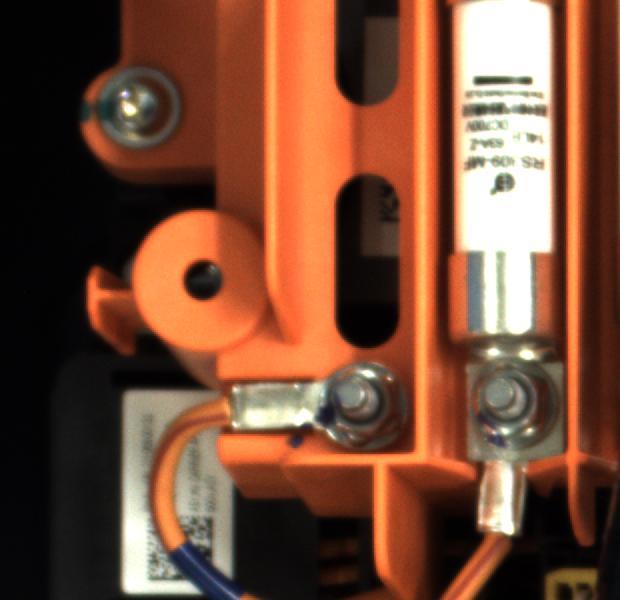screw_m: (90, 55, 196, 152)
screw_s: (467, 356, 568, 453), (319, 358, 409, 448)
